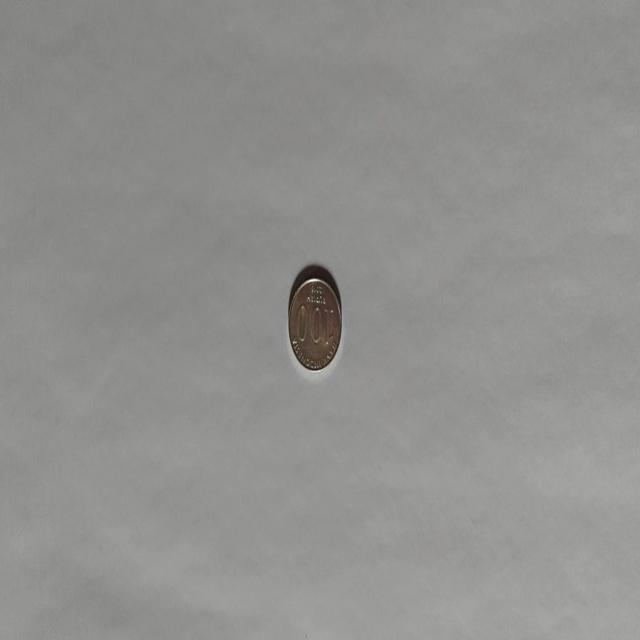seratus rupiah: (287, 274, 342, 372)
